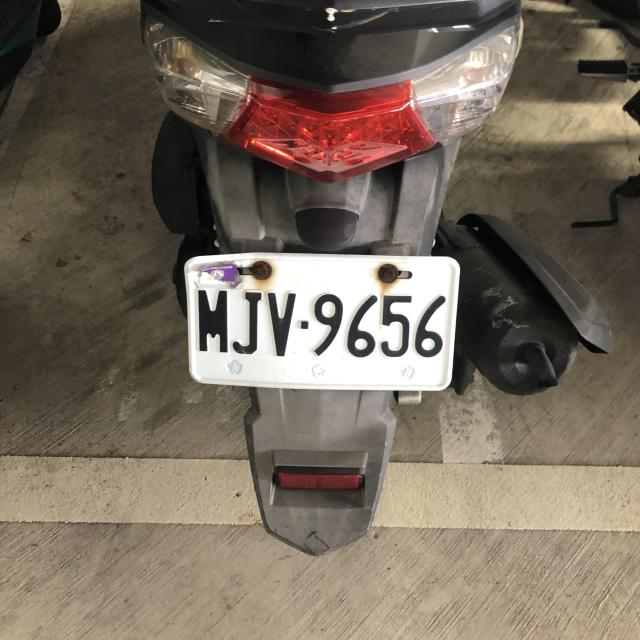W: (181, 249, 458, 395)
